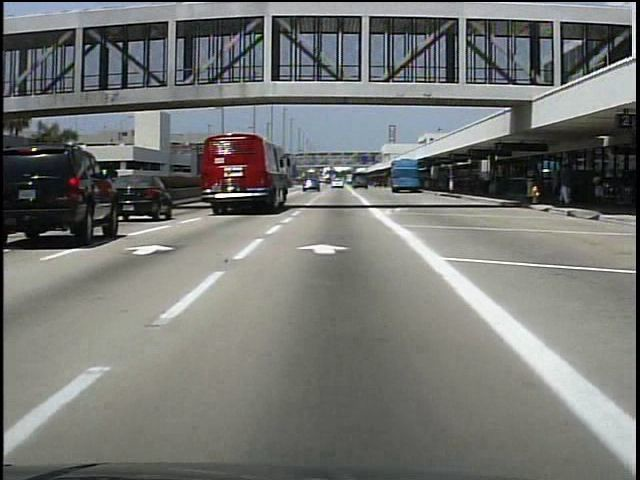person: (589, 168, 607, 213), (478, 168, 489, 193)
